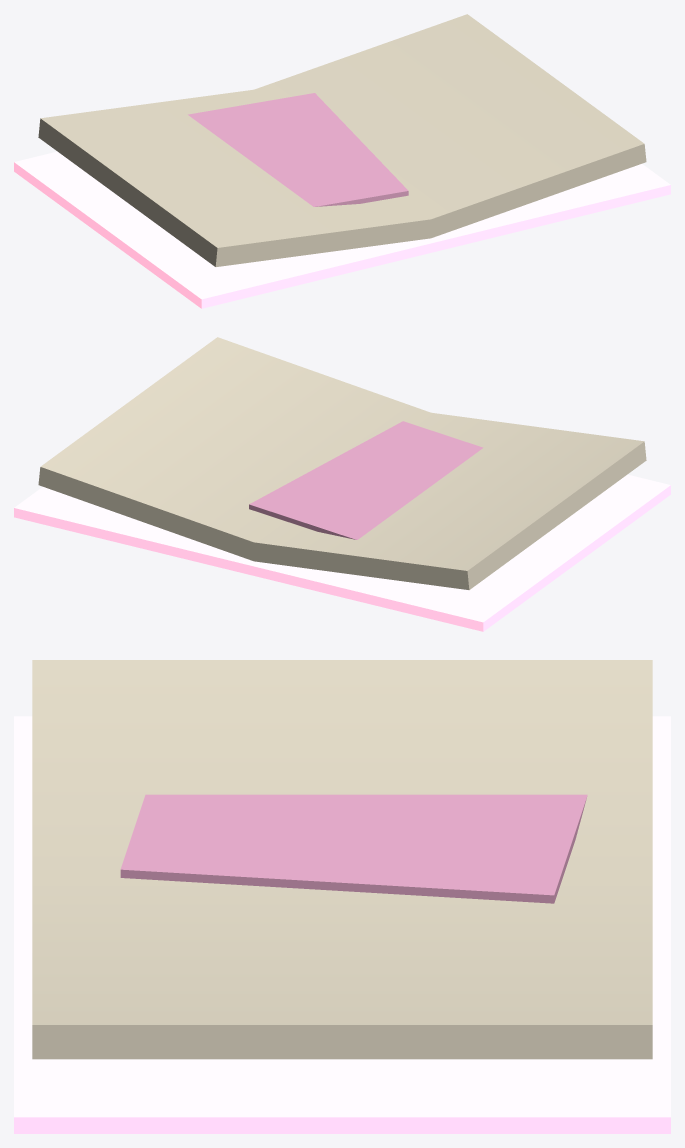
The model's file is dun_book_open.glb.
3 renders of one model, top to bottom at view 1: azimuth 30°, elevation 25°; view 2: azimuth 150°, elevation 25°; view 3: azimuth 270°, elevation 25°, orthographic. The views are drawn at different scales.
Parts seen in each view (by area): view 1: dun_book_open_parchment_0, dun_book_open_rb_red_0, dun_book_open_satin_pink_0; view 2: dun_book_open_parchment_0, dun_book_open_rb_red_0, dun_book_open_satin_pink_0; view 3: dun_book_open_parchment_0, dun_book_open_rb_red_0, dun_book_open_satin_pink_0.
Boxes of the visible parts, bbox=[...] form: dun_book_open_parchment_0: bbox=[38, 14, 646, 266]; dun_book_open_rb_red_0: bbox=[14, 151, 670, 308]; dun_book_open_satin_pink_0: bbox=[188, 93, 408, 206]; dun_book_open_parchment_0: bbox=[38, 337, 646, 589]; dun_book_open_rb_red_0: bbox=[14, 474, 670, 631]; dun_book_open_satin_pink_0: bbox=[249, 421, 483, 539]; dun_book_open_parchment_0: bbox=[32, 660, 652, 1059]; dun_book_open_rb_red_0: bbox=[14, 716, 670, 1133]; dun_book_open_satin_pink_0: bbox=[120, 794, 587, 903].
Size of the model in its own units: 0.52 by 0.055 by 0.36.
